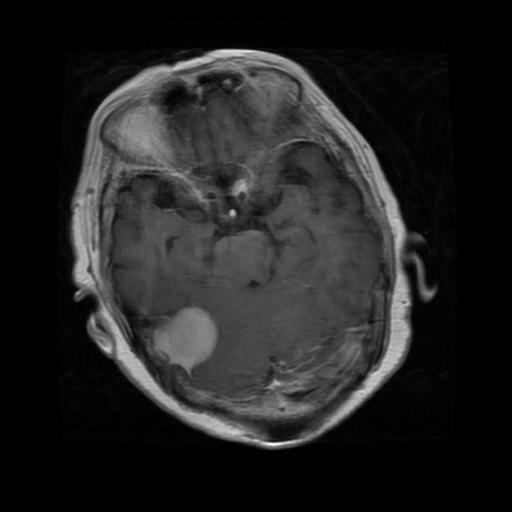Tumour-Meningioma: (120, 288, 245, 381)
